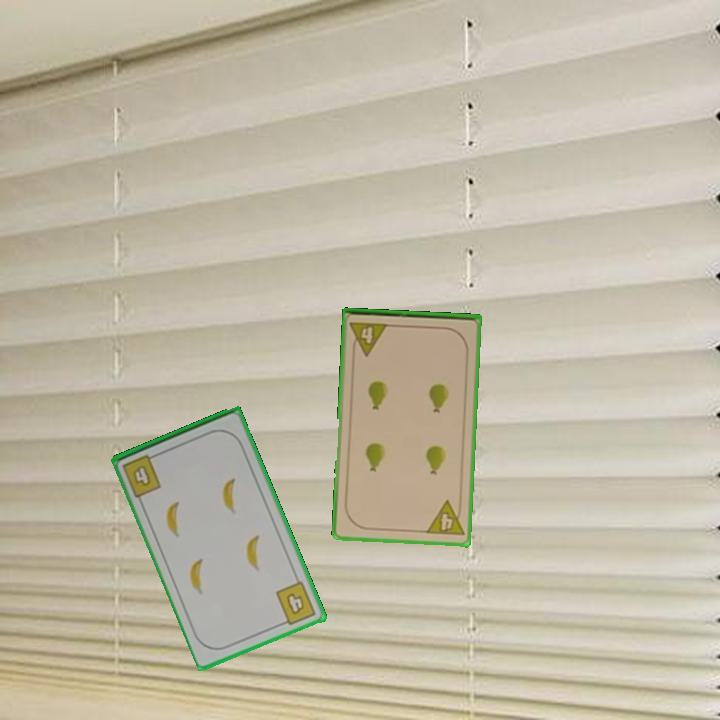4b: (272, 578, 319, 629), (119, 450, 165, 500)
4p: (422, 497, 467, 538), (346, 318, 391, 358)
